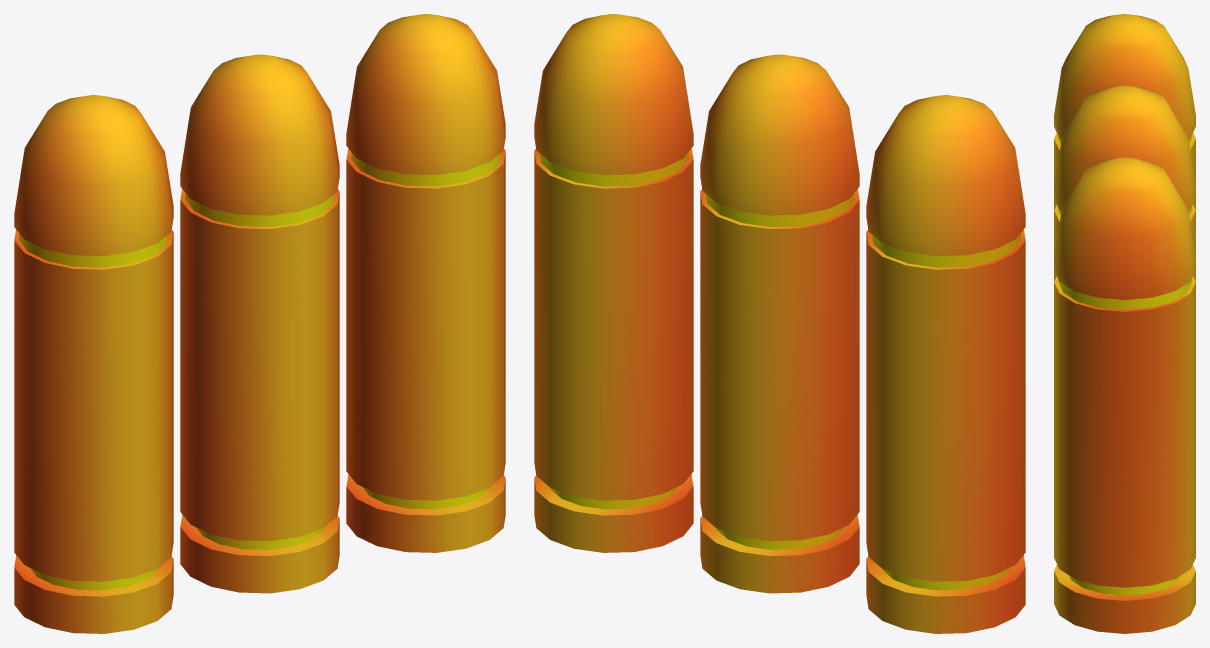
The model's file is ItemAmmo.fbx.
3 renders of one model, left to right at view 1: azimuth 30°, elevation 25°; view 2: azimuth 150°, elevation 25°; view 3: azimuth 270°, elevation 25°, orthographic. The views are drawn at different scales.
Parts seen in each view (by area): view 1: ItemAmmo; view 2: ItemAmmo; view 3: ItemAmmo.
Part boxes in pixels (bbox=[...]): ItemAmmo: bbox=[14, 14, 505, 633]; ItemAmmo: bbox=[534, 14, 1025, 633]; ItemAmmo: bbox=[1054, 14, 1195, 633].
Size of the model in its own units: 1.19 by 1.21 by 0.3525.
